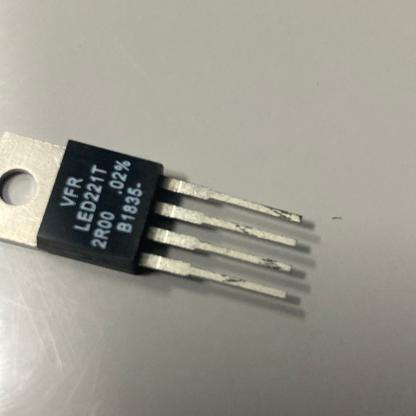SP0000012: (0, 100, 345, 373)
